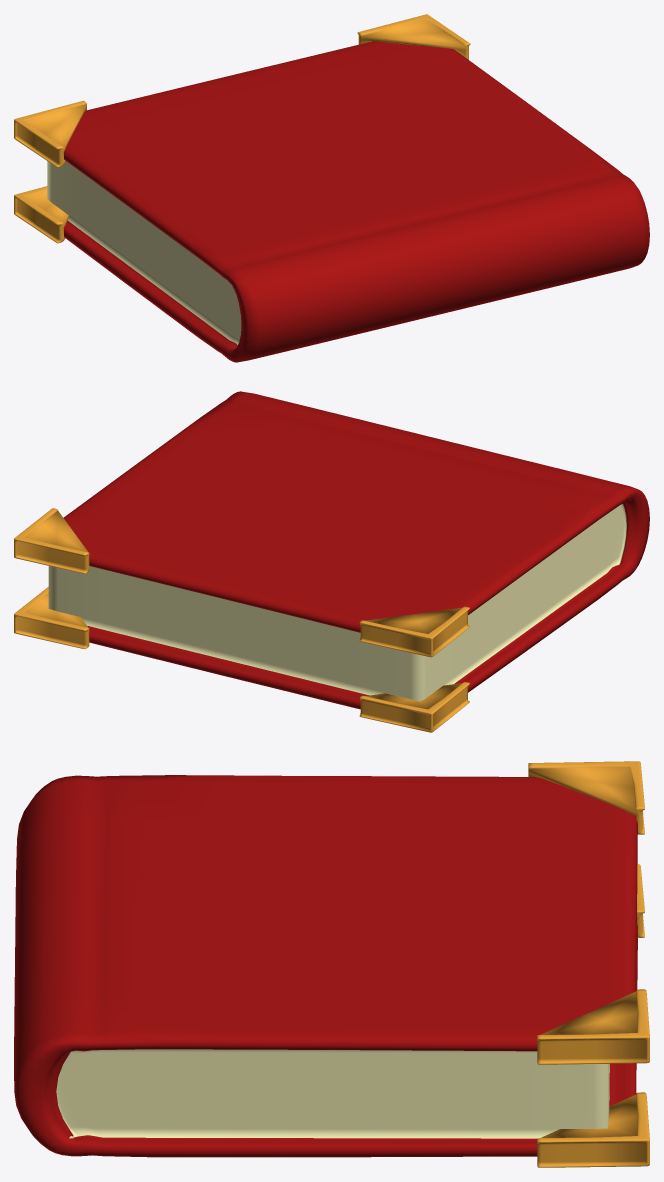
File: book2.fbx
3 views of the same model, one above another, from view 1: azimuth 30°, elevation 25°; view 2: azimuth 150°, elevation 25°; view 3: azimuth 270°, elevation 25° (orthographic). The views are drawn at different scales.
Parts seen in each view (by area): view 1: Cube.022, Cube.027, Cube.030, Cube.028; view 2: Cube.022, Cube.027, Cube.028, Cube.030, Cube.029; view 3: Cube.022, Cube.030, Cube.029, Cube.027.
Boxes of the visible parts, x1,y1,x2,y2 form: Cube.022: (47, 41, 649, 362); Cube.027: (14, 100, 86, 167); Cube.030: (357, 14, 470, 59); Cube.028: (14, 186, 68, 243); Cube.022: (48, 391, 649, 709); Cube.027: (359, 606, 469, 657); Cube.028: (359, 682, 469, 732); Cube.030: (14, 508, 89, 573); Cube.029: (14, 587, 89, 649); Cube.022: (14, 775, 637, 1157); Cube.030: (537, 989, 649, 1064); Cube.029: (537, 1092, 649, 1167); Cube.027: (528, 761, 644, 834).
Bounding box in the file's own units: 896 × 197 × 864.
